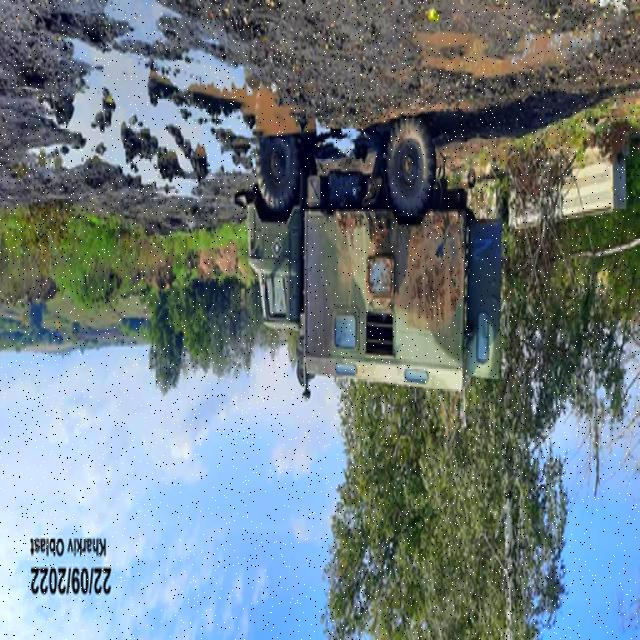TRUCK: (241, 120, 509, 407)
